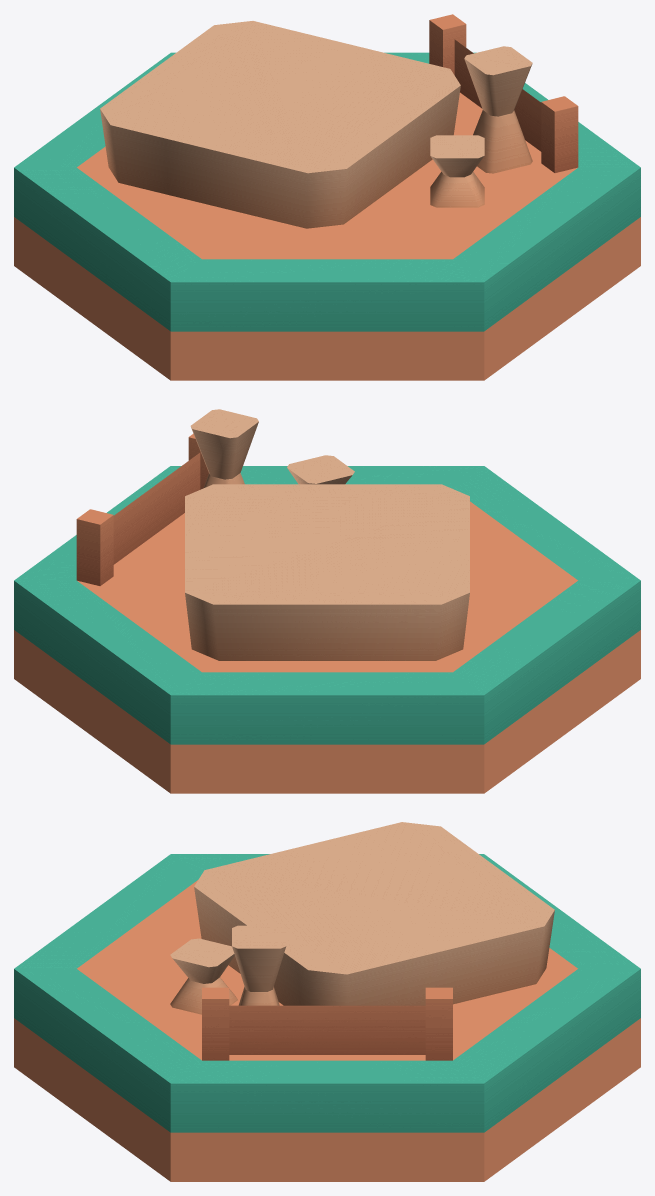
Rendered from building-farm.glb.
3 views of the same model, one above another, from view 1: azimuth 30°, elevation 25°; view 2: azimuth 150°, elevation 25°; view 3: azimuth 270°, elevation 25° (orthographic).
Parts seen in each view (by area): view 1: building-farm; view 2: building-farm; view 3: building-farm.
Boxes of the visible parts, box(x1,y1,x2,y2) form: building-farm: box(14, 14, 640, 380); building-farm: box(14, 409, 640, 793); building-farm: box(14, 822, 640, 1181).
Size of the model in its own units: 10 by 4 by 11.55.
1 material, 1 textured.
